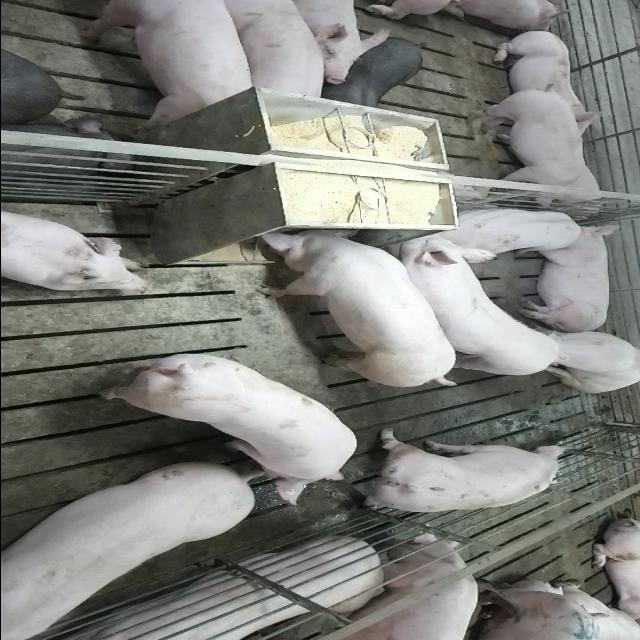Feeding: (243, 220, 462, 385)
Lateral_lying: (38, 539, 388, 640), (512, 222, 620, 332)
Sitting: (526, 326, 638, 394)
Standing: (0, 465, 257, 640), (93, 355, 356, 511), (382, 242, 562, 381), (78, 2, 258, 126), (348, 430, 568, 516), (458, 86, 588, 212), (324, 534, 476, 640), (212, 3, 328, 113)
Sternal_lying: (0, 204, 152, 291), (487, 30, 609, 130)
